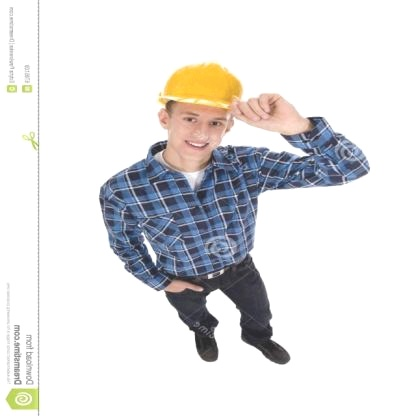yellow: (143, 56, 249, 116)
